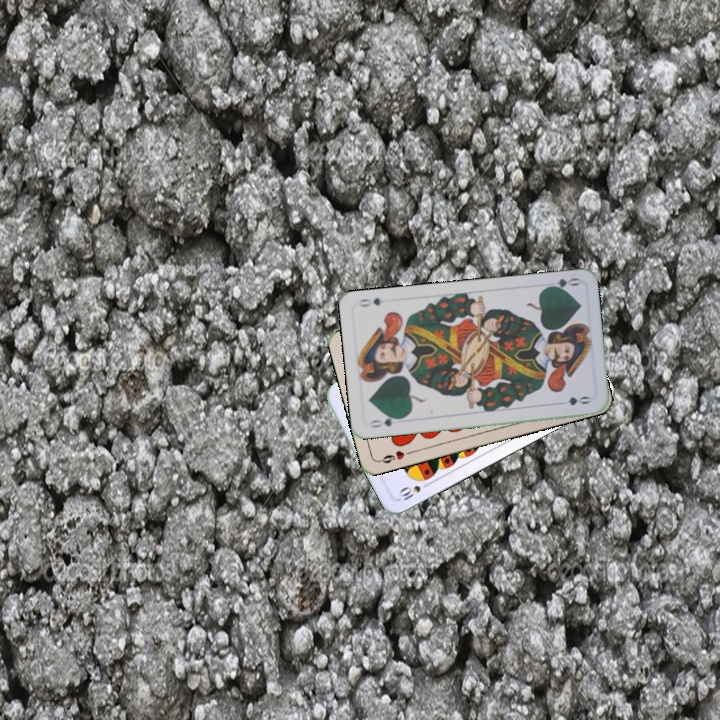GO: (541, 274, 582, 293), (366, 412, 405, 430)
H9: (375, 446, 415, 466)
S10: (394, 474, 433, 504)
